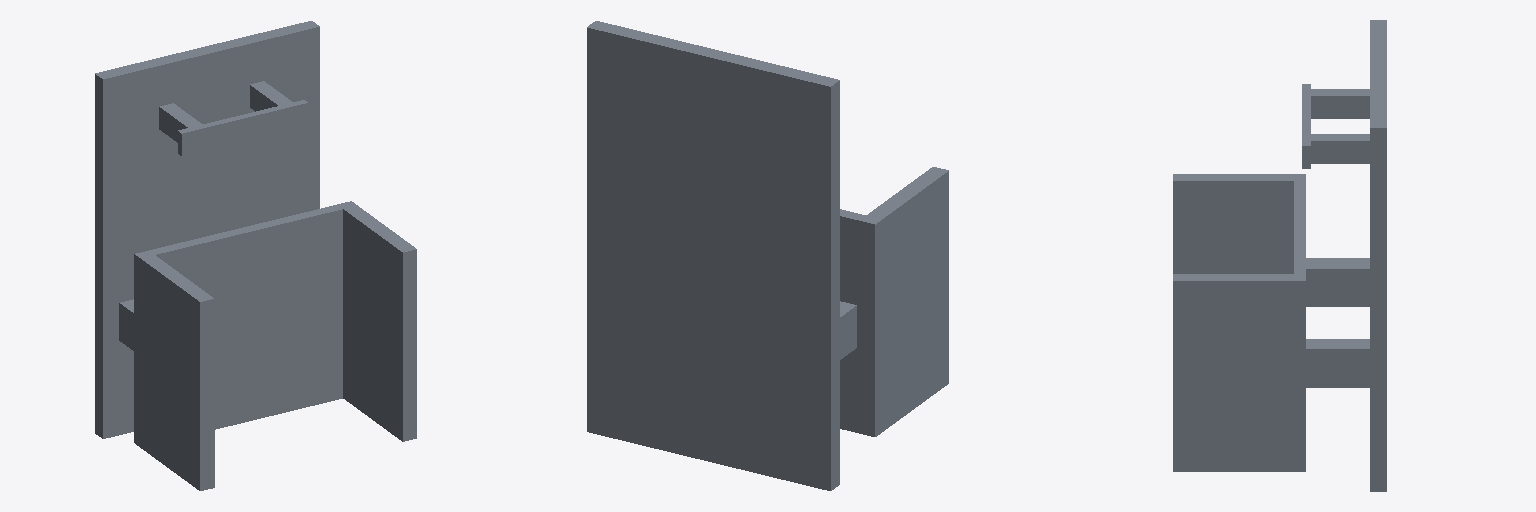
The robot description file, URDF, robot "complete_visual":
<?xml version="1.0" ?><!-- =================================================================================== --><!-- |    This document was autogenerated by xacro from /home/tin/Vinuni/install_grouped/vehicle_bringup/share/vehicle_bringup/config/simulation.xacro | --><!-- |    EDITING THIS FILE BY HAND IS NOT RECOMMENDED                                 | --><!-- =================================================================================== --><robot name="complete_visual"><!-- Specify some standard inertial calculations https://en.wikipedia.org/wiki/List_of_moments_of_inertia --><!-- These make use of xacro's mathematical functionality --><link name="fr10_base_link"><inertial><origin rpy="0 0 0" xyz="-0.00037778 -0.00035367 0.035825"/><mass value="0.73775"/><inertia ixx="0.0026263" ixy="1.1085E-05" ixz="-8.5601E-06" iyy="0.0026258" iyz="-7.9868E-06" izz="0.0044466"/></inertial><visual><origin rpy="0 0 0" xyz="0 0 0"/><geometry><mesh filename="package://fairino_description/meshes/fairino10_v6/base_link.STL"/></geometry><material name=""><color rgba="0.89804 0.91765 0.92941 1"/></material></visual><collision><origin rpy="0 0 0" xyz="0 0 0.0429"/><geometry><cylinder length="0.0838" radius="0.095"/></geometry></collision></link><link name="shoulder_link"><inertial><origin rpy="0 0 0" xyz="-0.0001 -0.02612 0.00404"/><mass value="11.97"/><inertia ixx="0.04607471" ixy="-0.00001041" ixz="-0.00009371" iyy="0.03493881" iyz="0.00133107" izz="0.04467851"/></inertial><visual><origin rpy="0 0 0" xyz="0 0 0"/><geometry><mesh filename="package://fairino_description/meshes/fairino10_v6/shoulder_link.STL"/></geometry><material name=""><color rgba="0.89804 0.91765 0.92941 1"/></material></visual><collision><origin rpy="0 0 0" xyz="0 0 0"/><geometry><mesh filename="package://fairino_description/meshes/fairino10_v6/shoulder_link.STL"/></geometry></collision></link><joint name="j1" type="revolute"><origin rpy="0 0 0" xyz="0 0 0"/><parent link="fr10_base_link"/><child link="shoulder_link"/><axis xyz="0 0 1"/><limit effort="150" lower="-3.0543" upper="3.0543" velocity="3.15"/><calibration falling="0" rising="0"/><dynamics damping="0" friction="0"/><safety_controller k_position="100.0" k_velocity="40.0" soft_lower_limit="-3.0543261" soft_upper_limit="3.0543261"/></joint><link name="upperarm_link"><inertial><origin rpy="0 0 0" xyz="0.48027 0.00001 0.16468"/><mass value="19.59"/><inertia ixx="0.0649166" ixy="0.00054242" ixz="-0.02821532" iyy="1.81964752" iyz="-0.00005779" izz="1.80524518"/></inertial><visual><origin rpy="0 0 0" xyz="0 0 0"/><geometry><mesh filename="package://fairino_description/meshes/fairino10_v6/upperarm_link.STL"/></geometry><material name=""><color rgba="0.89804 0.91765 0.92941 1"/></material></visual><collision><origin rpy="0 0 0" xyz="0 0 0"/><geometry><mesh filename="package://fairino_description/meshes/fairino10_v6/upperarm_link.STL"/></geometry></collision></link><joint name="j2" type="revolute"><origin rpy="1.5708 0 0" xyz="0 0 0.18"/><parent link="shoulder_link"/><child link="upperarm_link"/><axis xyz="0 0 1"/><limit effort="150" lower="-4.6251" upper="1.4835" velocity="3.15"/><calibration falling="0" rising="0"/><dynamics damping="0" friction="0"/><safety_controller k_position="100.0" k_velocity="40.0" soft_lower_limit="-3.0543261" soft_upper_limit="3.0543261"/></joint><link name="forearm_link"><inertial><origin rpy="0 0 0" xyz="0.21122 0.00011 0.05421"/><mass value="3.7"/><inertia ixx="0.00642901" ixy="0.00004731" ixz="0.00070041" iyy="0.20273064" iyz="0.00000774" izz="0.20206759"/></inertial><visual><origin rpy="0 0 0" xyz="0 0 0"/><geometry><mesh filename="package://fairino_description/meshes/fairino10_v6/forearm_link.STL"/></geometry><material name=""><color rgba="1 1 1 1"/></material></visual><collision><origin rpy="0 0 0" xyz="0 0 0"/><geometry><mesh filename="package://fairino_description/meshes/fairino10_v6/forearm_link.STL"/></geometry></collision></link><joint name="j3" type="revolute"><origin rpy="0 0 0" xyz="-0.7 0 0"/><parent link="upperarm_link"/><child link="forearm_link"/><axis xyz="0 0 1"/><limit effort="150" lower="-2.8274" upper="2.8274" velocity="3.15"/><calibration falling="0" rising="0"/><dynamics damping="0" friction="0"/><safety_controller k_position="100.0" k_velocity="40.0" soft_lower_limit="-3.0543261" soft_upper_limit="3.0543261"/></joint><link name="wrist1_link"><inertial><origin rpy="0 0 0" xyz="0.00012 -0.003 0.01218"/><mass value="1.69"/><inertia ixx="0.00248058" ixy="0.00001495" ixz="0.00002165" iyy="0.00239729" iyz="-0.00007228" izz="0.00180628"/></inertial><visual><origin rpy="0 0 0" xyz="0 0 0"/><geometry><mesh filename="package://fairino_description/meshes/fairino10_v6/wrist1_link.STL"/></geometry><material name=""><color rgba="1 1 1 1"/></material></visual><collision><origin rpy="0 0 0" xyz="0 0 0"/><geometry><mesh filename="package://fairino_description/meshes/fairino10_v6/wrist1_link.STL"/></geometry></collision></link><joint name="j4" type="revolute"><origin rpy="0 0 0" xyz="-0.586 0 0"/><parent link="forearm_link"/><child link="wrist1_link"/><axis xyz="0 0 1"/><limit effort="28" lower="-4.6251" upper="1.4835" velocity="3.2"/><calibration falling="0" rising="0"/><dynamics damping="0" friction="0"/><safety_controller k_position="100.0" k_velocity="40.0" soft_lower_limit="-3.0543261" soft_upper_limit="3.0543261"/></joint><link name="wrist2_link"><inertial><origin rpy="0 0 0" xyz="-0.00012 0.003 0.01218"/><mass value="1.69"/><inertia ixx="0.00248058" ixy="0.00001495" ixz="-0.00002165" iyy="0.00239729" iyz="0.00007228" izz="0.00180628"/></inertial><visual><origin rpy="0 0 0" xyz="0 0 0"/><geometry><mesh filename="package://fairino_description/meshes/fairino10_v6/wrist2_link.STL"/></geometry><material name=""><color rgba="1 1 1 1"/></material></visual><collision><origin rpy="0 0 0" xyz="0 0 0"/><geometry><mesh filename="package://fairino_description/meshes/fairino10_v6/wrist2_link.STL"/></geometry></collision></link><joint name="j5" type="revolute"><origin rpy="1.5708 0 0" xyz="0 0 0.159"/><parent link="wrist1_link"/><child link="wrist2_link"/><axis xyz="0 0 1"/><limit effort="28" lower="-3.0543" upper="3.0543" velocity="3.2"/><calibration falling="0" rising="0"/><dynamics damping="0" friction="0"/><safety_controller k_position="100.0" k_velocity="40.0" soft_lower_limit="-3.0543261" soft_upper_limit="3.0543261"/></joint><link name="wrist3_link"><inertial><origin rpy="0 0 0" xyz="0.00124 0.00085 -0.02034"/><mass value="0.35"/><inertia ixx="0.00023661" ixy="-0.00000085" ixz="0.00000092" iyy="0.00023501" iyz="-0.00000154" izz="0.00036972"/></inertial><visual><origin rpy="0 0 0" xyz="0 0 0"/><geometry><mesh filename="package://fairino_description/meshes/fairino10_v6/wrist3_link.STL"/></geometry><material name=""><color rgba="0.79216 0.81961 0.93333 1"/></material></visual><collision><origin rpy="0 0 0" xyz="0 0 0"/><geometry><mesh filename="package://fairino_description/meshes/fairino10_v6/wrist3_link.STL"/></geometry></collision></link><joint name="j6" type="revolute"><origin rpy="-1.5708 0 0" xyz="0 0 0.114"/><parent link="wrist2_link"/><child link="wrist3_link"/><axis xyz="0 0 1"/><limit effort="28" lower="-3.0543" upper="3.0543" velocity="3.2"/><calibration falling="0" rising="0"/><dynamics damping="0" friction="0"/><safety_controller k_position="100.0" k_velocity="40.0" soft_lower_limit="-3.0543261" soft_upper_limit="3.0543261"/></joint><material name="aluminum"><color rgba="0.5 0.5 0.5 1"/></material><material name="plastic"><color rgba="0.1 0.1 0.1 1"/></material><link name="plate_frame"/><joint name="wrist3_to_plate" type="fixed"><parent link="wrist3_link"/><child link="plate_frame"/><!-- Fixed mechanical clocking of the plate: no upstream-joint or world compensation.
           At the reference FR10 pose with j6=0, plate +Y is up and +Z is outward. --><origin rpy="0 0 3.141592653589793" xyz="0 0 0.106"/></joint><link name="wrist_mount_backplate"><visual><geometry><box size="0.12 0.19 0.008"/></geometry><material name="mount_aluminium"><color rgba="0.55 0.58 0.62 1"/></material></visual><collision><geometry><box size="0.12 0.19 0.008"/></geometry></collision><inertial><origin rpy="0 0 0" xyz="0 0 0"/><mass value="0.49248000000000003"/><inertia ixx="0.00148417056" ixy="0.0" ixz="0.0" iyy="0.00059360256" iyz="0.0" izz="0.00207252"/></inertial></link><joint name="plate_to_wrist_mount_backplate" type="fixed"><parent link="plate_frame"/><child link="wrist_mount_backplate"/><origin rpy="0 0 0" xyz="0 0.055 -0.004"/></joint><link name="camera_support_left"><visual><geometry><box size="0.008 0.012 0.028"/></geometry><material name="mount_aluminium"><color rgba="0.55 0.58 0.62 1"/></material></visual><collision><geometry><box size="0.008 0.012 0.028"/></geometry></collision><inertial><origin rpy="0 0 0" xyz="0 0 0"/><mass value="0.007257600000000001"/><inertia ixx="5.612544000000001e-07" ixy="0.0" ixz="0.0" iyy="5.128704000000001e-07" iyz="0.0" izz="1.2579840000000002e-07"/></inertial></link><joint name="plate_to_camera_support_left" type="fixed"><parent link="plate_frame"/><child link="camera_support_left"/><origin rpy="0 0 0" xyz="-0.025 -0.0125 0.014"/></joint><link name="camera_support_right"><visual><geometry><box size="0.008 0.012 0.028"/></geometry><material name="mount_aluminium"><color rgba="0.55 0.58 0.62 1"/></material></visual><collision><geometry><box size="0.008 0.012 0.028"/></geometry></collision><inertial><origin rpy="0 0 0" xyz="0 0 0"/><mass value="0.007257600000000001"/><inertia ixx="5.612544000000001e-07" ixy="0.0" ixz="0.0" iyy="5.128704000000001e-07" iyz="0.0" izz="1.2579840000000002e-07"/></inertial></link><joint name="plate_to_camera_support_right" type="fixed"><parent link="plate_frame"/><child link="camera_support_right"/><origin rpy="0 0 0" xyz="0.025 -0.0125 0.014"/></joint><link name="camera_rear_mount"><visual><geometry><box size="0.07 0.012 0.004"/></geometry><material name="mount_aluminium"><color rgba="0.55 0.58 0.62 1"/></material></visual><collision><geometry><box size="0.07 0.012 0.004"/></geometry></collision><inertial><origin rpy="0 0 0" xyz="0 0 0"/><mass value="0.009072000000000002"/><inertia ixx="1.2096000000000005e-07" ixy="0.0" ixz="0.0" iyy="3.7164960000000015e-06" iyz="0.0" izz="3.8132640000000015e-06"/></inertial></link><joint name="plate_to_camera_rear_mount" type="fixed"><parent link="plate_frame"/><child link="camera_rear_mount"/><origin rpy="0 0 0" xyz="0 -0.0125 0.030"/></joint><link name="charger_support_left"><visual><geometry><box size="0.012 0.02 0.03"/></geometry><material name="mount_aluminium"><color rgba="0.55 0.58 0.62 1"/></material></visual><collision><geometry><box size="0.012 0.02 0.03"/></geometry></collision><inertial><origin rpy="0 0 0" xyz="0 0 0"/><mass value="0.01944"/><inertia ixx="2.106e-06" ixy="0.0" ixz="0.0" iyy="1.6912799999999999e-06" iyz="0.0" izz="8.812799999999999e-07"/></inertial></link><joint name="plate_to_charger_support_left" type="fixed"><parent link="plate_frame"/><child link="charger_support_left"/><origin rpy="0 0 0" xyz="-0.045 0.09 0.015"/></joint><link name="charger_support_right"><visual><geometry><box size="0.012 0.02 0.03"/></geometry><material name="mount_aluminium"><color rgba="0.55 0.58 0.62 1"/></material></visual><collision><geometry><box size="0.012 0.02 0.03"/></geometry></collision><inertial><origin rpy="0 0 0" xyz="0 0 0"/><mass value="0.01944"/><inertia ixx="2.106e-06" ixy="0.0" ixz="0.0" iyy="1.6912799999999999e-06" iyz="0.0" izz="8.812799999999999e-07"/></inertial></link><joint name="plate_to_charger_support_right" type="fixed"><parent link="plate_frame"/><child link="charger_support_right"/><origin rpy="0 0 0" xyz="0.045 0.09 0.015"/></joint><link name="charger_rear_mount"><visual><geometry><box size="0.12 0.1 0.006"/></geometry><material name="mount_aluminium"><color rgba="0.55 0.58 0.62 1"/></material></visual><collision><geometry><box size="0.12 0.1 0.006"/></geometry></collision><inertial><origin rpy="0 0 0" xyz="0 0 0"/><mass value="0.1944"/><inertia ixx="0.0001625832" ixy="0.0" ixz="0.0" iyy="0.00023386319999999997" iyz="0.0" izz="0.00039528"/></inertial></link><joint name="plate_to_charger_rear_mount" type="fixed"><parent link="plate_frame"/><child link="charger_rear_mount"/><origin rpy="0 0 0" xyz="0 0.09 0.033"/></joint><link name="charger_cradle_left"><visual><geometry><box size="0.008 0.1 0.06"/></geometry><material name="mount_aluminium"><color rgba="0.55 0.58 0.62 1"/></material></visual><collision><geometry><box size="0.008 0.1 0.06"/></geometry></collision><inertial><origin rpy="0 0 0" xyz="0 0 0"/><mass value="0.1296"/><inertia ixx="0.00014688" ixy="0.0" ixz="0.0" iyy="3.957119999999999e-05" iyz="0.0" izz="0.00010869120000000001"/></inertial></link><joint name="plate_to_charger_cradle_left" type="fixed"><parent link="plate_frame"/><child link="charger_cradle_left"/><origin rpy="0 0 0" xyz="-0.056 0.09 0.063"/></joint><link name="charger_cradle_right"><visual><geometry><box size="0.008 0.1 0.06"/></geometry><material name="mount_aluminium"><color rgba="0.55 0.58 0.62 1"/></material></visual><collision><geometry><box size="0.008 0.1 0.06"/></geometry></collision><inertial><origin rpy="0 0 0" xyz="0 0 0"/><mass value="0.1296"/><inertia ixx="0.00014688" ixy="0.0" ixz="0.0" iyy="3.957119999999999e-05" iyz="0.0" izz="0.00010869120000000001"/></inertial></link><joint name="plate_to_charger_cradle_right" type="fixed"><parent link="plate_frame"/><child link="charger_cradle_right"/><origin rpy="0 0 0" xyz="0.056 0.09 0.063"/></joint><!-- CAD is in mm, centered at its bounding-box midpoint during export.
         Its mating face points along +Z. Mass retains the former 3 kg tool
         assumption; box inertia is a simulation approximation, not CAD data. --><link name="charging_connector_link"><visual><geometry><mesh filename="package://vehicle_description/meshes/jlr_ccs2_centered.stl"/></geometry><material name="connector_dark"><color rgba="0.15 0.15 0.17 1"/></material></visual><collision><geometry><box size="0.112964099279084 0.135 0.125"/></geometry></collision><inertial><origin rpy="0 0 0" xyz="0 0 0"/><mass value="3.0"/><inertia ixx="0.008462500000000001" ixy="0.0" ixz="0.0" iyy="0.007096471931483687" iyz="0.0" izz="0.007746471931483687"/></inertial></link><joint name="plate_to_charging_connector" type="fixed"><parent link="plate_frame"/><child link="charging_connector_link"/><origin rpy="0 0 0" xyz="0 0.09 0.09"/></joint><!-- Legacy visual-consumer alias, not a substitute for FR10 IK. --><link name="Charge_link"/><joint name="connector_to_charge_alias" type="fixed"><parent link="charging_connector_link"/><child link="Charge_link"/></joint><link name="charging_tcp"/><joint name="connector_to_tcp" type="fixed"><parent link="charging_connector_link"/><child link="charging_tcp"/><origin rpy="0 0 0" xyz="0 0 0.0625"/></joint><!-- This frame is centered on the REAR face, in plate axes. --><link name="d435_mount_frame"/><joint name="plate_to_d435_mount" type="fixed"><parent link="plate_frame"/><child link="d435_mount_frame"/><origin rpy="0 0 0" xyz="0 -0.0125 0.030"/></joint><!-- camera body, with origin at bottom screw mount --><joint name="camera_joint" type="fixed"><origin rpy="-1.5707963267948966 -1.5707963267948966 0" xyz="-0.00004295 -0.0125 0.0101547"/><parent link="d435_mount_frame"/><child link="camera_bottom_screw_frame"/></joint><link name="camera_bottom_screw_frame"/><joint name="camera_link_joint" type="fixed"><origin rpy="0 0 0" xyz="0.010600000000000002 0.0175 0.0125"/><parent link="camera_bottom_screw_frame"/><child link="camera_link"/></joint><link name="camera_link"><visual><!-- the mesh origin is at front plate in between the two infrared camera axes --><origin rpy="1.5707963267948966 0 1.5707963267948966" xyz="0.0043 -0.0175 0"/><geometry><mesh filename="package://realsense2_description/meshes/d435.dae"/></geometry></visual><collision><origin rpy="0 0 0" xyz="0 -0.0175 0"/><geometry><box size="0.02505 0.09 0.025"/></geometry></collision><inertial><!-- The following are not reliable values, and should not be used for modeling --><mass value="0.072"/><origin xyz="0 0 0"/><inertia ixx="0.003881243" ixy="0.0" ixz="0.0" iyy="0.000498940" iyz="0.0" izz="0.003879257"/></inertial></link><!-- camera depth joints and links --><joint name="camera_depth_joint" type="fixed"><origin rpy="0 0 0" xyz="0 0 0"/><parent link="camera_link"/><child link="camera_depth_frame"/></joint><link name="camera_depth_frame"/><joint name="camera_depth_optical_joint" type="fixed"><origin rpy="-1.5707963267948966 0 -1.5707963267948966" xyz="0 0 0"/><parent link="camera_depth_frame"/><child link="camera_depth_optical_frame"/></joint><link name="camera_depth_optical_frame"/><!-- camera left IR joints and links --><joint name="camera_infra1_joint" type="fixed"><origin rpy="0 0 0" xyz="0 0.0 0"/><parent link="camera_link"/><child link="camera_infra1_frame"/></joint><link name="camera_infra1_frame"/><joint name="camera_infra1_optical_joint" type="fixed"><origin rpy="-1.5707963267948966 0 -1.5707963267948966" xyz="0 0 0"/><parent link="camera_infra1_frame"/><child link="camera_infra1_optical_frame"/></joint><link name="camera_infra1_optical_frame"/><!-- camera right IR joints and links --><joint name="camera_infra2_joint" type="fixed"><origin rpy="0 0 0" xyz="0 -0.05 0"/><parent link="camera_link"/><child link="camera_infra2_frame"/></joint><link name="camera_infra2_frame"/><joint name="camera_infra2_optical_joint" type="fixed"><origin rpy="-1.5707963267948966 0 -1.5707963267948966" xyz="0 0 0"/><parent link="camera_infra2_frame"/><child link="camera_infra2_optical_frame"/></joint><link name="camera_infra2_optical_frame"/><!-- camera color joints and links --><joint name="camera_color_joint" type="fixed"><origin rpy="0 0 0" xyz="0 0.015 0"/><parent link="camera_link"/><child link="camera_color_frame"/></joint><link name="camera_color_frame"/><joint name="camera_color_optical_joint" type="fixed"><origin rpy="-1.5707963267948966 0 -1.5707963267948966" xyz="0 0 0"/><parent link="camera_color_frame"/><child link="camera_color_optical_frame"/></joint><link name="camera_color_optical_frame"/><link name="arm_camera_link_optical"/><joint name="camera_optical_alias" type="fixed"><parent link="camera_depth_optical_frame"/><child link="arm_camera_link_optical"/></joint><gazebo reference="camera_link"><sensor name="arm_camera_sensor" type="depth"><always_on>true</always_on><update_rate>10</update_rate><visualize>false</visualize><camera name="arm_camera"><horizontal_fov>0.8</horizontal_fov><image><width>1280</width><height>720</height><format>R8G8B8</format></image><clip><near>0.02</near><far>50</far></clip></camera><plugin filename="libgazebo_ros_camera.so" name="arm_camera_controller"><ros><namespace>/arm_camera</namespace></ros><camera_name>arm_camera_sensor</camera_name><frame_name>camera_depth_optical_frame</frame_name><min_depth>0.02</min_depth><max_depth>50</max_depth></plugin></sensor></gazebo><link name="world"/><joint name="world_to_fr10" type="fixed"><parent link="world"/><child link="fr10_base_link"/></joint><ros2_control name="GazeboSystem" type="system"><hardware><plugin>gazebo_ros2_control/GazeboSystem</plugin></hardware><joint name="j1"><command_interface name="position"/><state_interface name="position"><param name="initial_value">0</param></state_interface><state_interface name="velocity"/><state_interface name="effort"/></joint><joint name="j2"><command_interface name="position"/><state_interface name="position"><param name="initial_value">-1.5707963267948966</param></state_interface><state_interface name="velocity"/><state_interface name="effort"/></joint><joint name="j3"><command_interface name="position"/><state_interface name="position"><param name="initial_value">1.5707963267948966</param></state_interface><state_interface name="velocity"/><state_interface name="effort"/></joint><joint name="j4"><command_interface name="position"/><state_interface name="position"><param name="initial_value">-1.5707963267948966</param></state_interface><state_interface name="velocity"/><state_interface name="effort"/></joint><joint name="j5"><command_interface name="position"/><state_interface name="position"><param name="initial_value">-1.5707963267948966</param></state_interface><state_interface name="velocity"/><state_interface name="effort"/></joint><joint name="j6"><command_interface name="position"/><state_interface name="position"><param name="initial_value">0</param></state_interface><state_interface name="velocity"/><state_interface name="effort"/></joint></ros2_control><gazebo><plugin filename="libgazebo_ros2_control.so" name="gazebo_ros2_control"><parameters>/tmp/vinuni_sim_t1o3w80t/controllers.yaml</parameters></plugin></gazebo></robot>

--- Render facts (derived) ---
3 views of the same robot in one strip: view 1: azimuth 30°, elevation 25°; view 2: azimuth 150°, elevation 25°; view 3: azimuth 270°, elevation 25° (orthographic).
Robot: complete_visual — 33 links, 32 joints (6 revolute, 26 fixed); root link world; default pose: all joints at 0.
Links seen in each view (by area): view 1: wrist_mount_backplate, charger_rear_mount, charger_cradle_right, charger_cradle_left, camera_rear_mount, camera_support_right, camera_support_left, charger_support_right; view 2: wrist_mount_backplate, charger_cradle_right, charger_rear_mount, charger_support_right; view 3: charger_cradle_left, charger_cradle_right, wrist_mount_backplate, charger_support_left, charger_support_right, charger_rear_mount, camera_support_left, camera_support_right, camera_rear_mount.
Link boxes in pixels (left/top/right/bottom): wrist_mount_backplate: left=95, top=21, right=319, bottom=438; charger_rear_mount: left=134, top=201, right=357, bottom=447; charger_cradle_right: left=138, top=253, right=214, bottom=490; charger_cradle_left: left=341, top=205, right=416, bottom=441; camera_rear_mount: left=178, top=100, right=307, bottom=155; camera_support_right: left=159, top=103, right=202, bottom=142; camera_support_left: left=250, top=81, right=292, bottom=111; charger_support_right: left=119, top=299, right=133, bottom=350; wrist_mount_backplate: left=587, top=21, right=839, bottom=490; charger_cradle_right: left=864, top=167, right=948, bottom=434; charger_rear_mount: left=840, top=209, right=881, bottom=436; charger_support_right: left=840, top=301, right=856, bottom=359; charger_cradle_left: left=1173, top=274, right=1299, bottom=471; charger_cradle_right: left=1173, top=174, right=1299, bottom=273; wrist_mount_backplate: left=1370, top=20, right=1386, bottom=491; charger_support_left: left=1306, top=339, right=1369, bottom=387; charger_support_right: left=1306, top=258, right=1369, bottom=306; charger_rear_mount: left=1294, top=174, right=1305, bottom=471; camera_support_left: left=1311, top=134, right=1369, bottom=163; camera_support_right: left=1311, top=89, right=1369, bottom=118; camera_rear_mount: left=1302, top=84, right=1310, bottom=168.
Size in the robot's own frame: 0.12 by 0.101 by 0.19 metres.
Meshes: 9 distinct files referenced, 0 mesh visuals loaded (none loaded); not drawn: 9 (reference not matched to a file when rendering).
